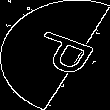P_SE: (14, 27, 96, 83)
